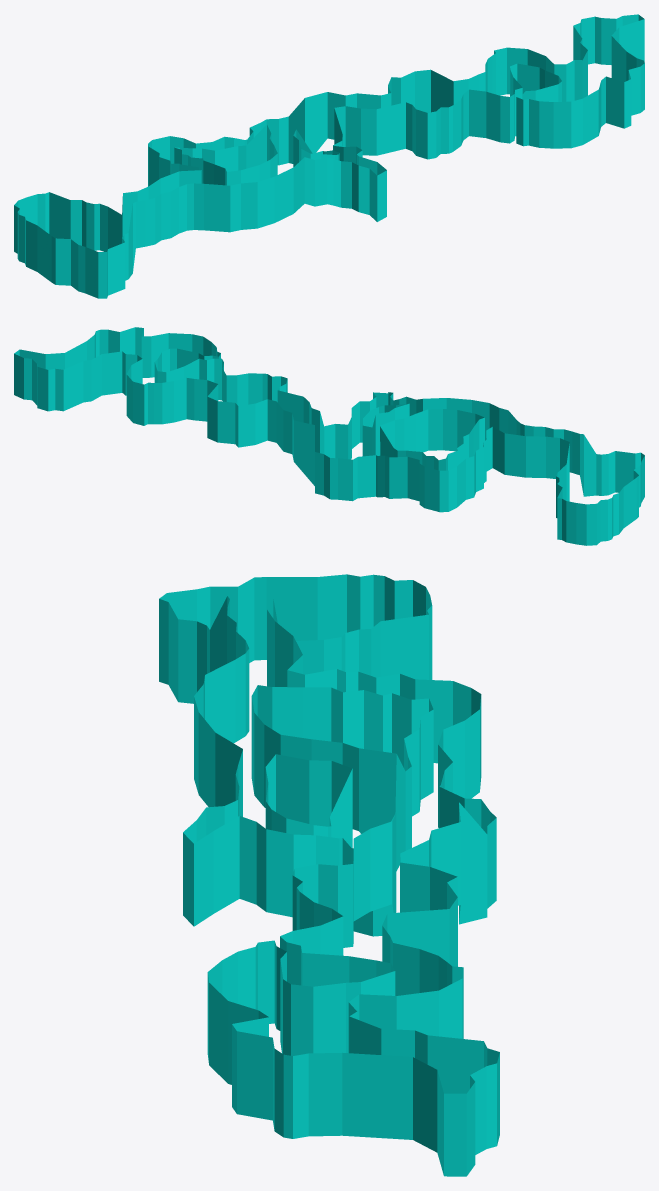
File: Walls.fbx
3 views of the same model, one above another, from view 1: azimuth 30°, elevation 25°; view 2: azimuth 150°, elevation 25°; view 3: azimuth 270°, elevation 25° (orthographic). The views are drawn at different scales.
Visible parts, largest first — view 1: wallColliders_original; view 2: wallColliders_original; view 3: wallColliders_original.
Part boxes in pixels (x1,y1,x2,y2): wallColliders_original: (14,14,644,298); wallColliders_original: (14,327,644,545); wallColliders_original: (159,574,499,1176).
Size of the model in its own units: 10453 by 1086 by 2683.
